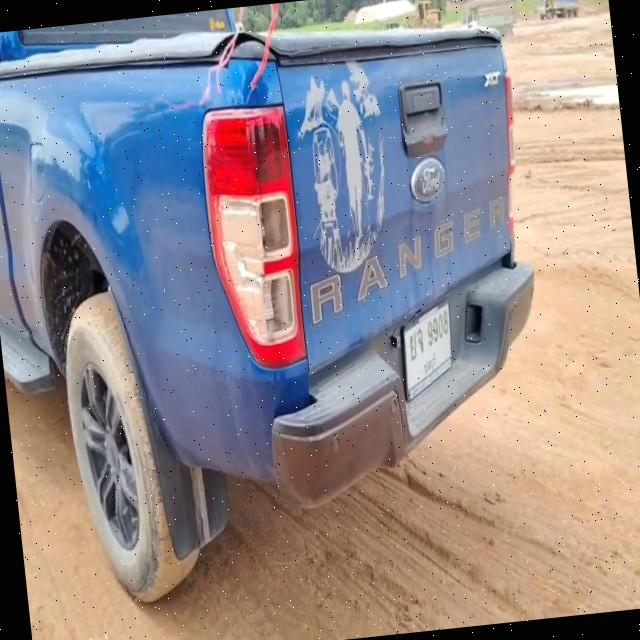Digit: (424, 308, 452, 344)
Licenseplate: (401, 295, 452, 407)
Provincename: (420, 352, 441, 374)
Thaichar: (406, 322, 424, 362)
